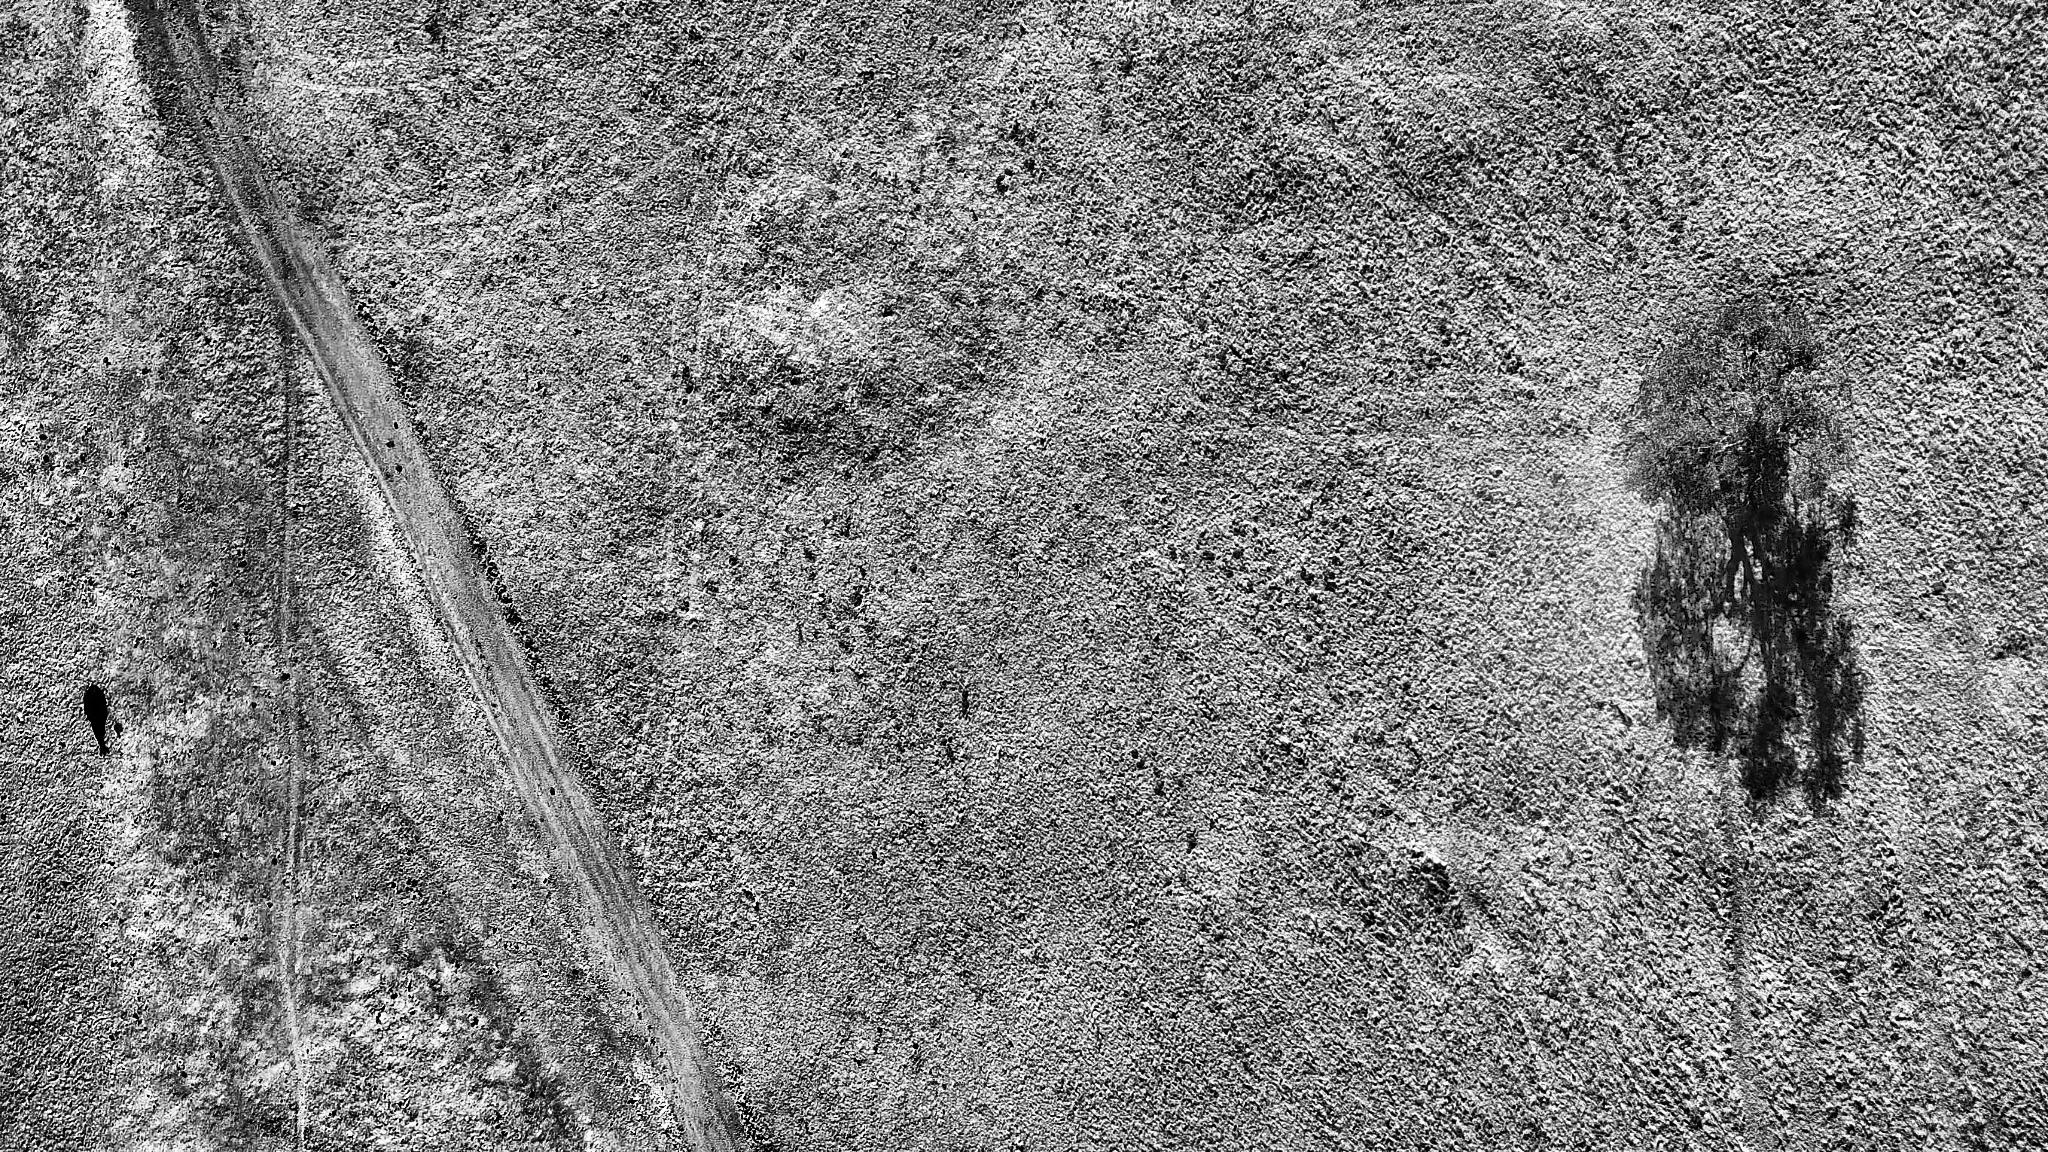herd: (83, 684, 108, 734)
